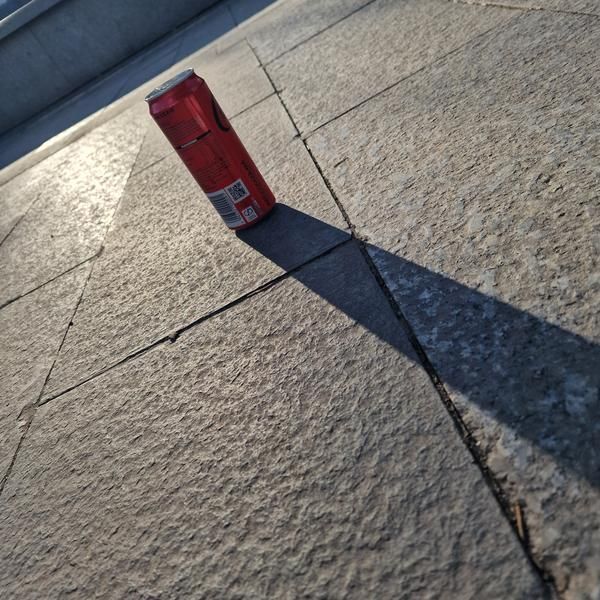can: (140, 63, 284, 239)
